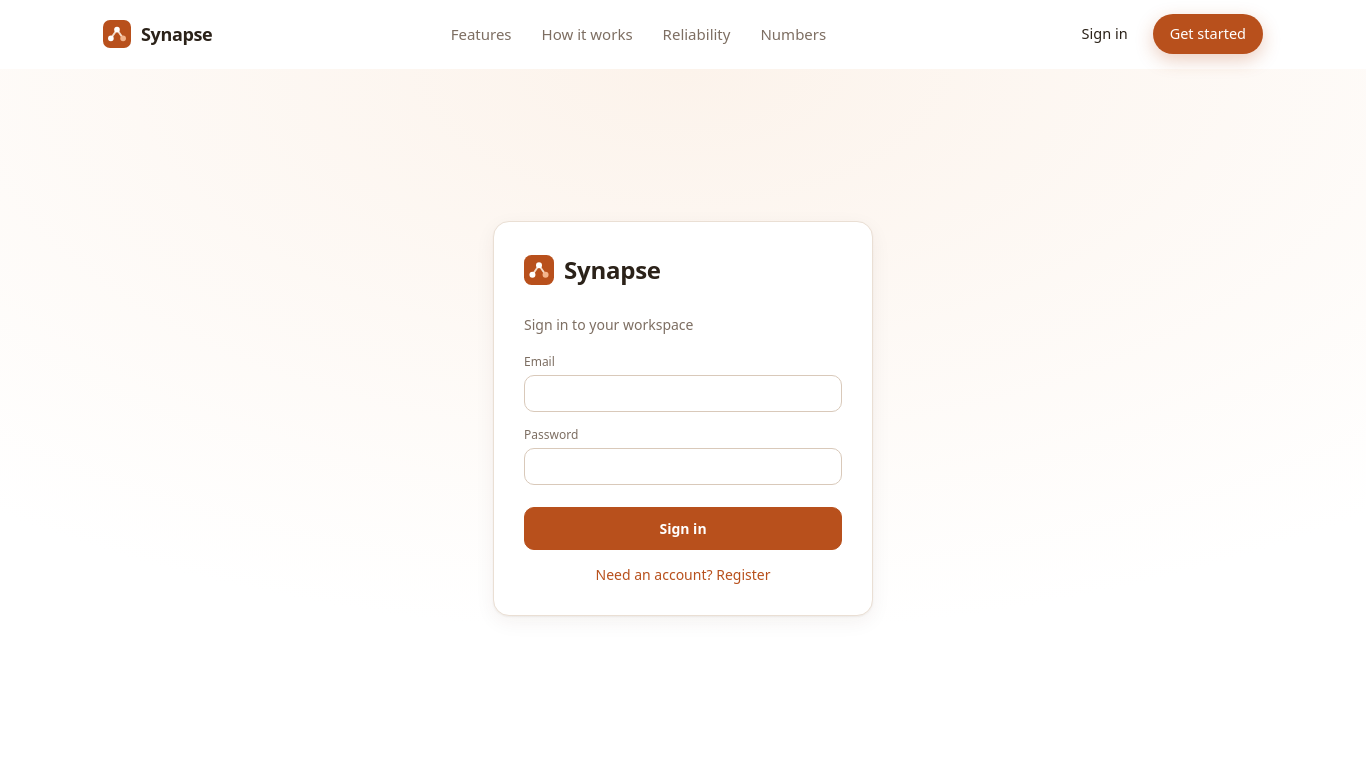
app shell › logs in and lands on the dashboard
Type "a@b.co" into the field labelled "Email" at [683, 394], box [524,375,842,412]
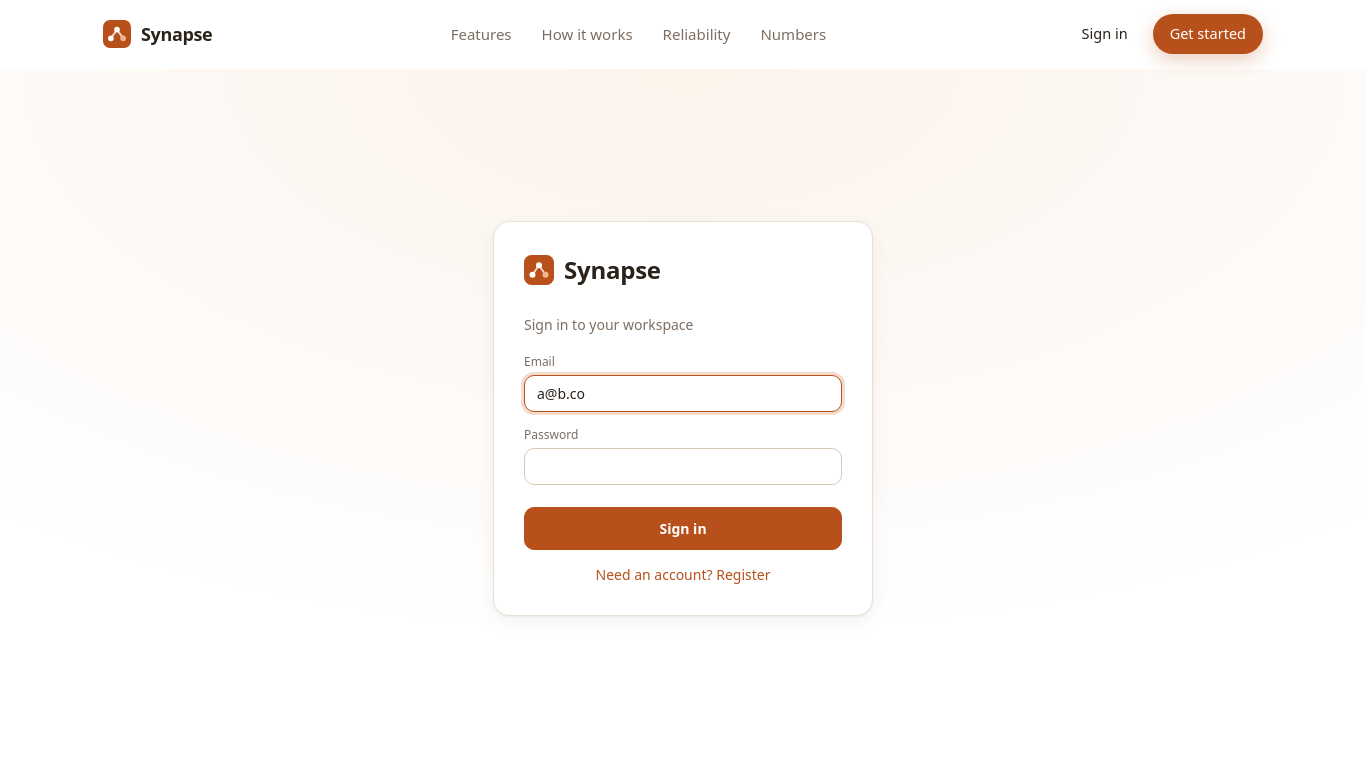
Type "correct horse battery" into the password field labelled "Password" at [683, 466], box [524,448,842,485]
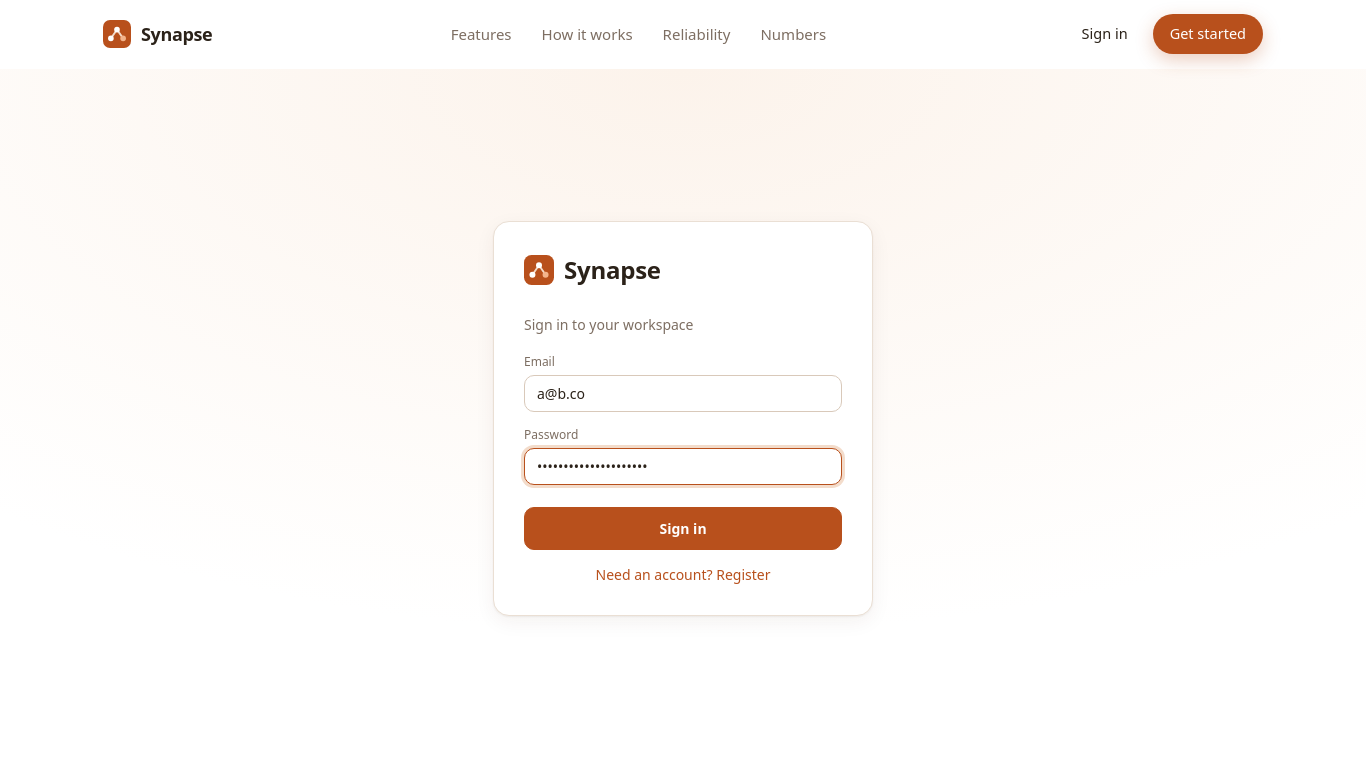
Click the button "Sign in" at [683, 528], box [524,507,842,550]
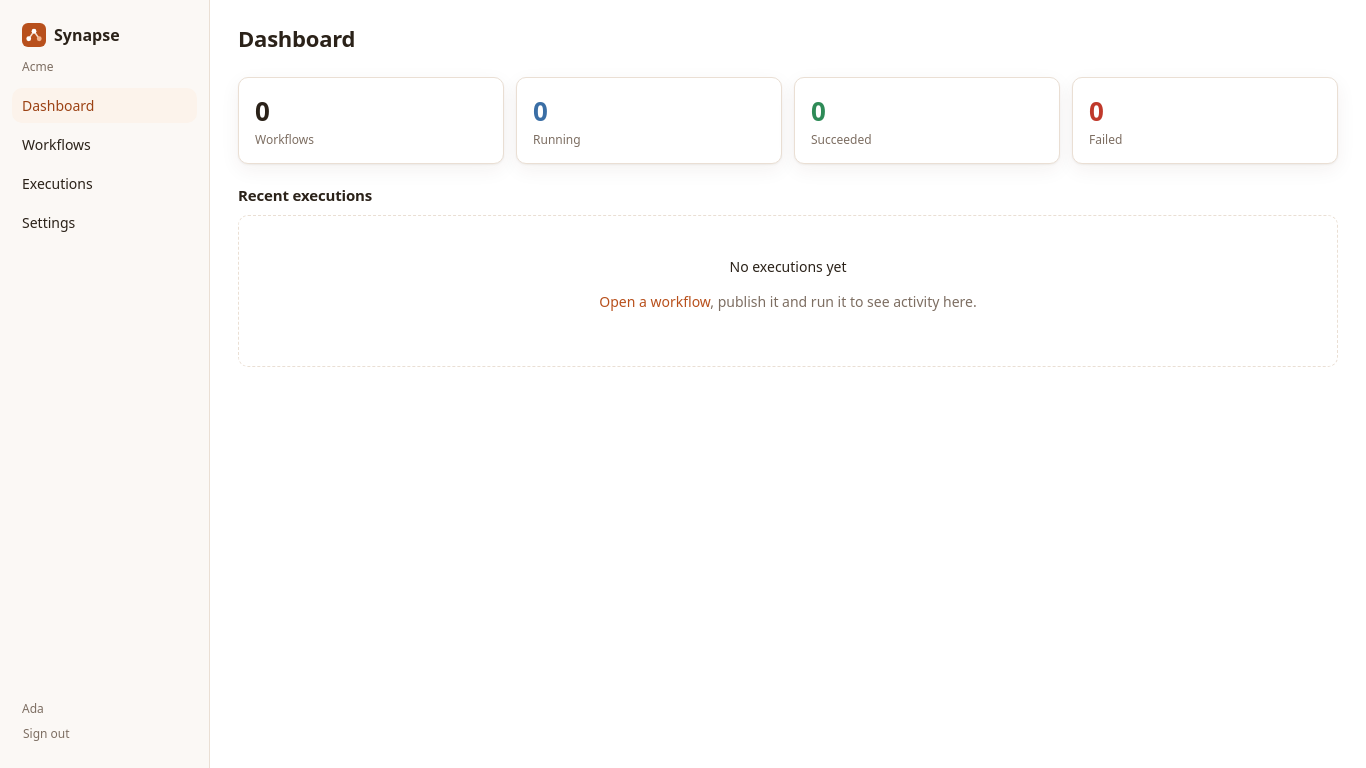
Check: the heading "Dashboard" is shown, box [238,22,355,55]
Check: the text "No executions yet" is shown, box [730,256,846,276]
